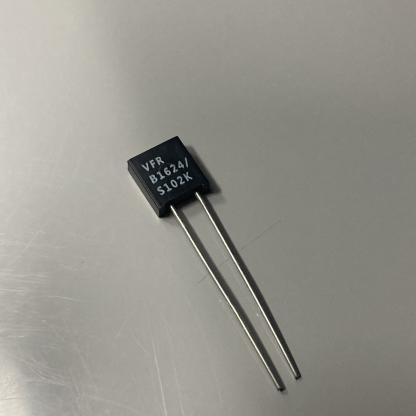SP0000008: (86, 110, 340, 398)
